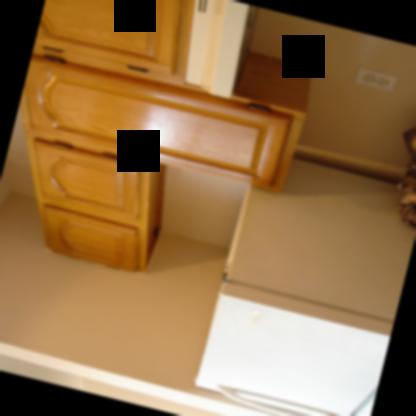handbag: (399, 124, 416, 229)
